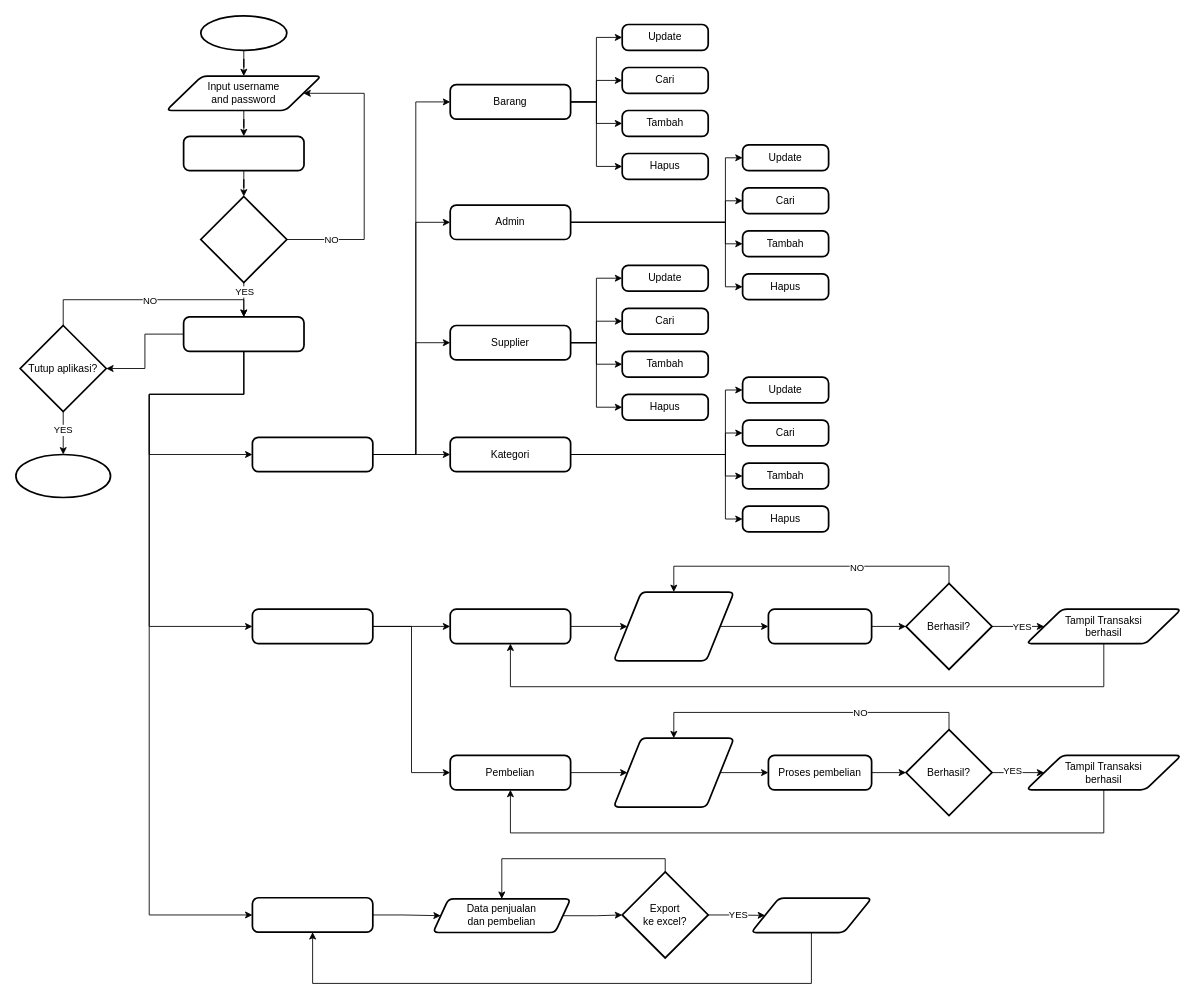
This 1196x1005 diagram has some shape labels left out. Each missing label, with the centre of its shape:
"Barang, Admin, Diskon, Uang, Kembalian" goes at point 673,626.
"Barang, Admin, Supplier, Uang, Kembalian" goes at point 673,772.
"Data Master" goes at point 312,454.
"End" goes at point 63,475.
"File excel" goes at point 811,915.
"Home" goes at point 243,334.
"Laporan" goes at point 312,914.
"Loged in?" goes at point 243,239.
"Login" goes at point 243,33.
"Penjualan" goes at point 510,626.
"Process Login" goes at point 243,153.
"Proses penjualan" goes at point 819,626.
"Transaksi" goes at point 312,626.
